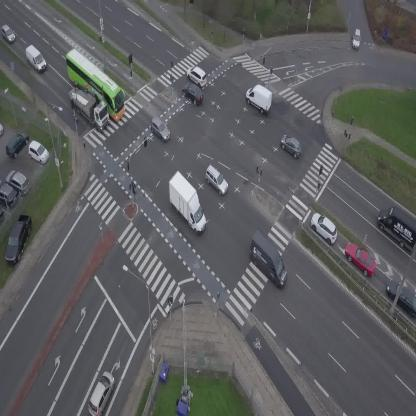bicycle: (129, 181, 139, 200)
bus: (55, 47, 136, 122)
car: (340, 237, 382, 281), (84, 370, 119, 416), (305, 209, 343, 247), (200, 163, 233, 196), (275, 131, 307, 160), (177, 79, 208, 108), (145, 115, 175, 144), (183, 63, 212, 90), (0, 23, 18, 45), (351, 28, 362, 49)
lorry: (156, 170, 219, 236), (238, 230, 298, 290), (61, 79, 117, 133), (240, 80, 278, 117), (21, 43, 51, 74)
